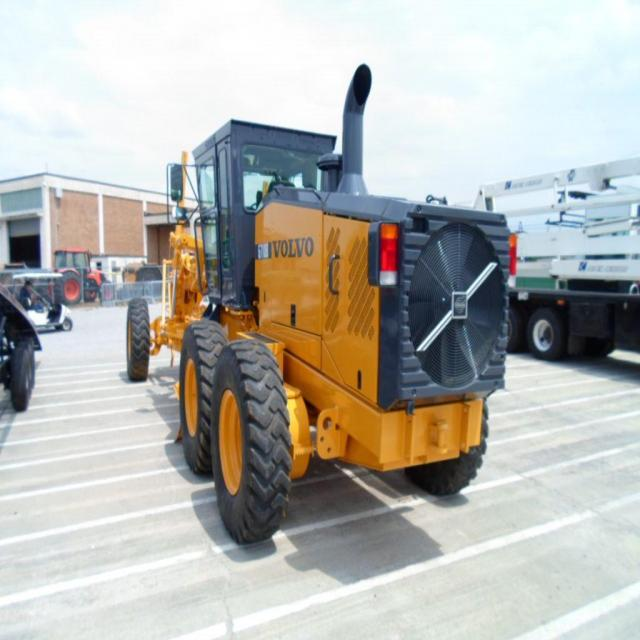Grader: (119, 97, 543, 550)
